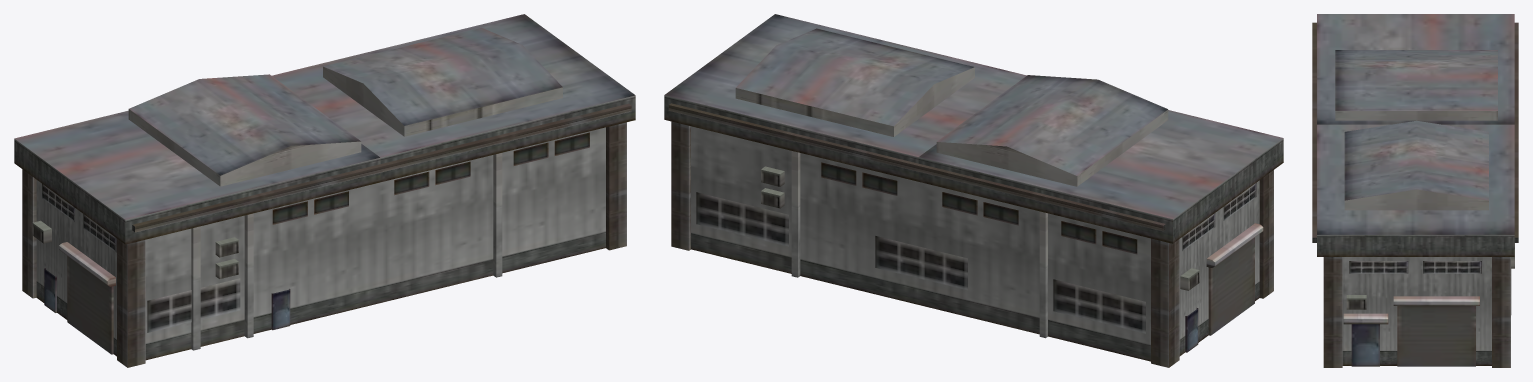
Rendered from ind-warehouse-1.lod1.glb.
3 renders of one model, left to right at view 1: azimuth 30°, elevation 25°; view 2: azimuth 150°, elevation 25°; view 3: azimuth 270°, elevation 25°, orthographic. The views are drawn at different scales.
Parts seen in each view (by area): view 1: Industrial_Warehouse_1_Industrial_Walls_FLR_1_0, Industrial_Warehouse_1_Industrial_Facade_Flr_1_0; view 2: Industrial_Warehouse_1_Industrial_Walls_FLR_1_0, Industrial_Warehouse_1_Industrial_Facade_Flr_1_0; view 3: Industrial_Warehouse_1_Industrial_Walls_FLR_1_0, Industrial_Warehouse_1_Industrial_Facade_Flr_1_0.
Boxes of the visible parts, x1=… form: Industrial_Warehouse_1_Industrial_Walls_FLR_1_0: x1=14, y1=14, x2=635, y2=367; Industrial_Warehouse_1_Industrial_Facade_Flr_1_0: x1=32, y1=132, x2=589, y2=354; Industrial_Warehouse_1_Industrial_Walls_FLR_1_0: x1=664, y1=14, x2=1283, y2=367; Industrial_Warehouse_1_Industrial_Facade_Flr_1_0: x1=696, y1=162, x2=1263, y2=352; Industrial_Warehouse_1_Industrial_Walls_FLR_1_0: x1=1312, y1=14, x2=1518, y2=367; Industrial_Warehouse_1_Industrial_Facade_Flr_1_0: x1=1343, y1=243, x2=1514, y2=366.
Bounding box in the file's own units: 33.83 × 11.12 × 13.36.
Materials: 2 (2 with a texture image).
